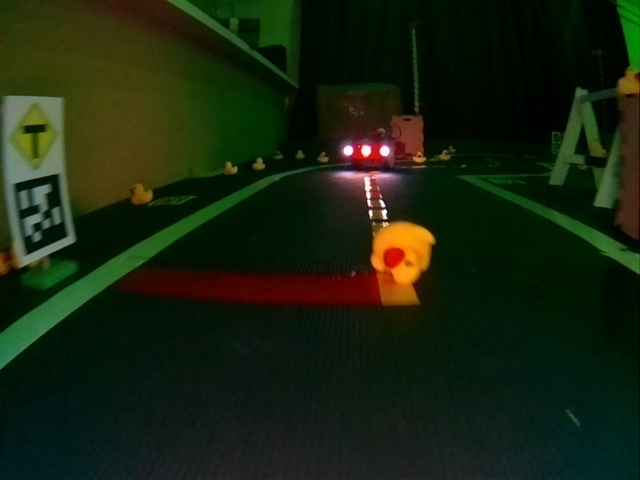Duckie: (370, 224, 430, 284), (130, 184, 152, 203), (223, 162, 238, 174), (412, 151, 426, 163), (252, 158, 265, 169), (438, 150, 450, 160), (297, 150, 305, 160), (319, 153, 326, 162)
Duckiebot: (344, 134, 395, 170)
Intersection sign: (8, 102, 61, 170)
QR code: (12, 175, 70, 257)
